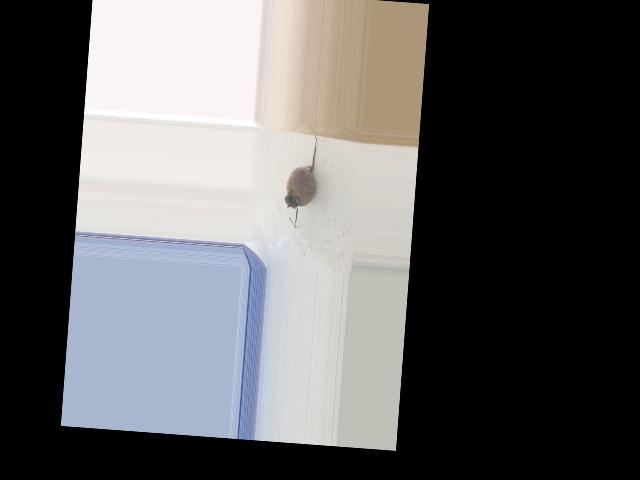beet: (283, 130, 319, 228)
